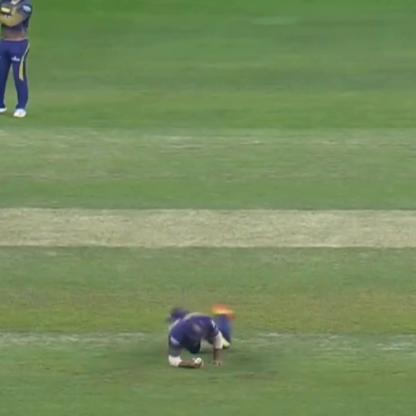ball: (191, 356, 203, 366)
